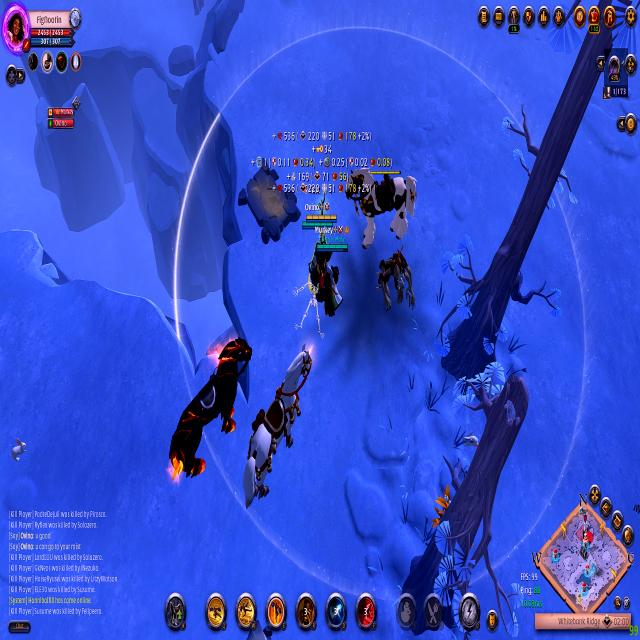hide: (428, 486, 454, 526)
ore: (376, 248, 416, 330)
red: (313, 224, 351, 315), (304, 204, 338, 296), (302, 219, 330, 302)
